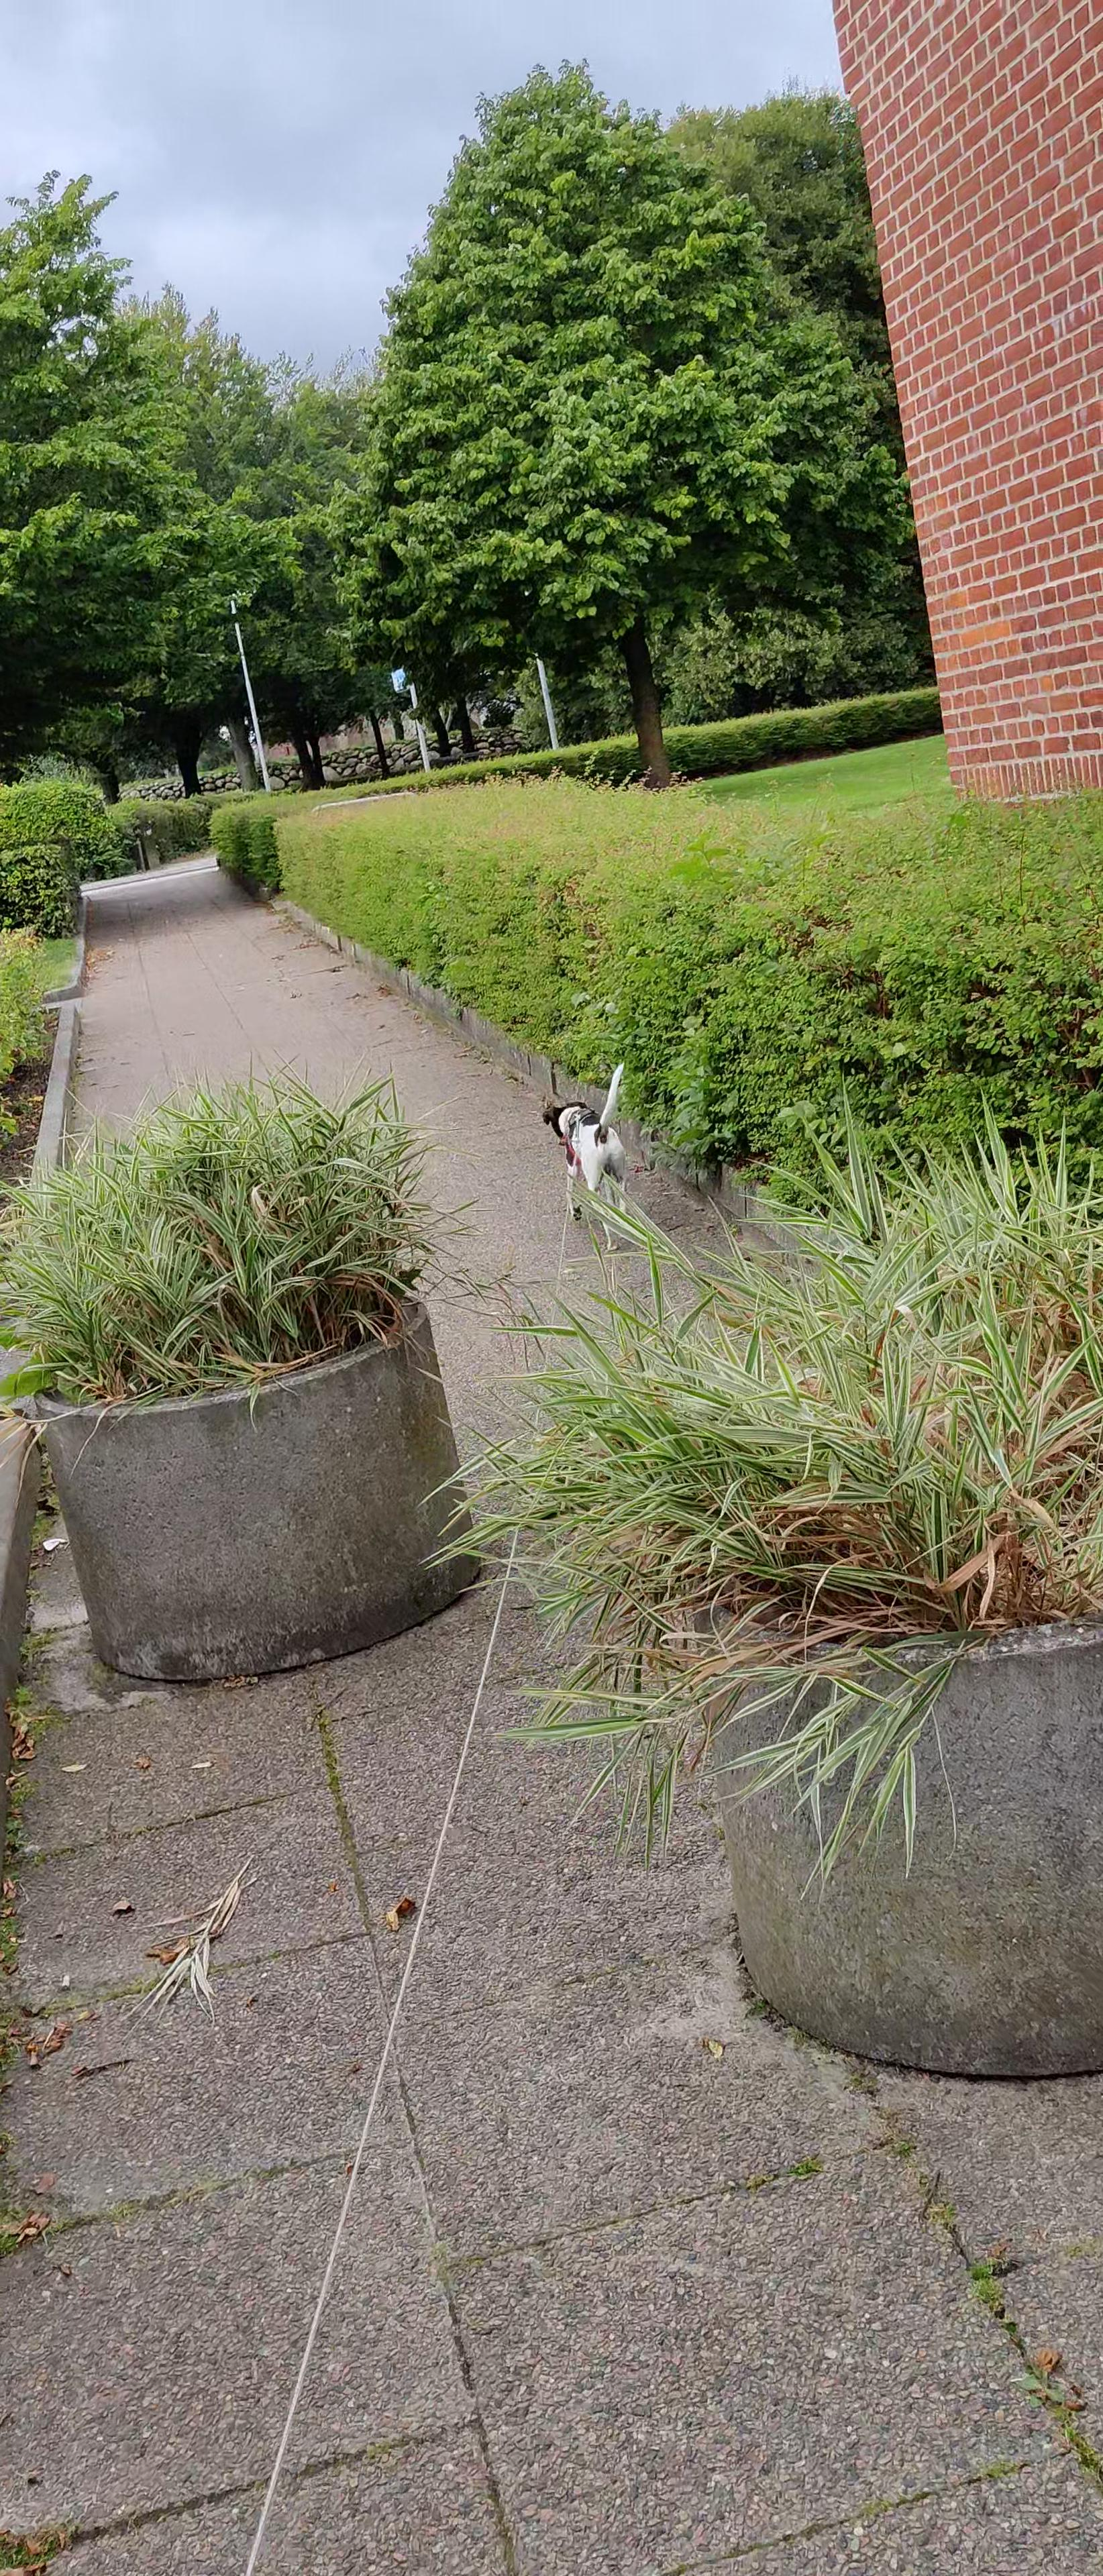Dog: (536, 1056, 646, 1258)
